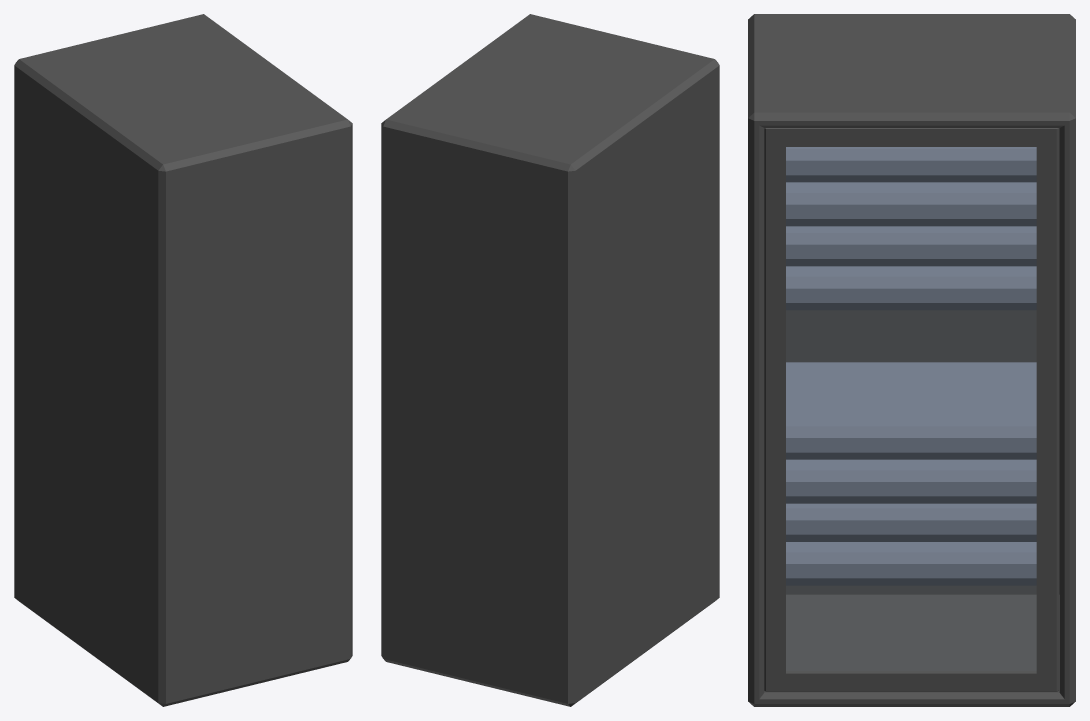
File: Server.fbx
The picture shows the model from 3 angles, left to right: view 1: azimuth 30°, elevation 25°; view 2: azimuth 150°, elevation 25°; view 3: azimuth 270°, elevation 25°; orthographic projection. The views are drawn at different scales.
Parts seen in each view (by area): view 1: Cube; view 2: Cube; view 3: Cube, Cube.001, Cube.006, Cube.003, Cube.004, Cube.007, Cube.008, Cube.005, Cube.009, Cube.002.
Part boxes in pixels (x1,y1,x2,y2): Cube: [14, 14, 352, 706]; Cube: [381, 14, 719, 706]; Cube: [748, 14, 1075, 706]; Cube.001: [764, 128, 1058, 691]; Cube.006: [786, 362, 1036, 459]; Cube.003: [786, 182, 1036, 226]; Cube.004: [786, 266, 1036, 310]; Cube.007: [786, 459, 1036, 503]; Cube.008: [786, 542, 1036, 585]; Cube.005: [786, 226, 1036, 266]; Cube.009: [786, 503, 1036, 541]; Cube.002: [786, 147, 1036, 182].
Size of the model in its own units: 300 by 800 by 400.
